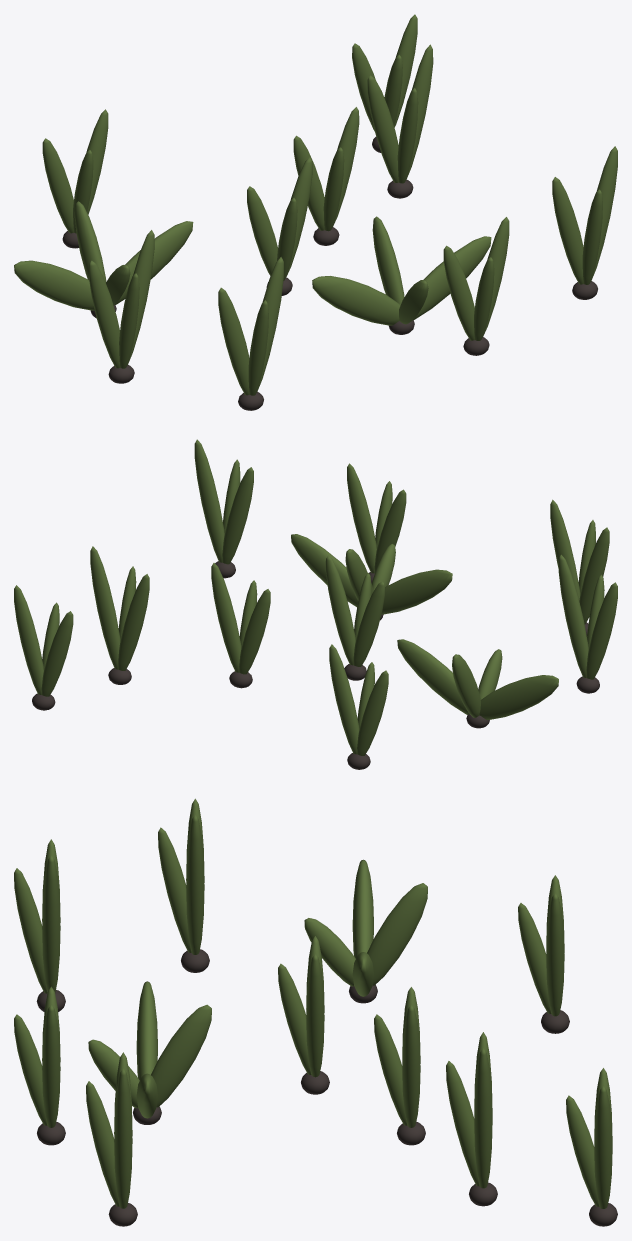
File: CMU3DRMCGrassa4.glb
The picture shows the model from 3 angles, top to bottom: view 1: azimuth 30°, elevation 25°; view 2: azimuth 150°, elevation 25°; view 3: azimuth 270°, elevation 25°; orthographic projection. The views are drawn at different scales.
Visible parts, largest first — view 1: tuft 8 continuous leaf 0, tuft 2 continuous leaf 0, tuft 8 continuous leaf 1, tuft 1 continuous leaf 0, tuft 5 continuous leaf 0, tuft 10 continuous leaf 0, tuft 4 continuous leaf 0, tuft 9 continuous leaf 0, tuft 0 continuous leaf 0, tuft 8 continuous leaf 2, tuft 2 continuous leaf 1, tuft 3 continuous leaf 0 (+23 smaller); view 2: tuft 2 continuous leaf 0, tuft 8 continuous leaf 0, tuft 2 continuous leaf 1, tuft 1 continuous leaf 1, tuft 5 continuous leaf 1, tuft 4 continuous leaf 1, tuft 7 continuous leaf 1, tuft 3 continuous leaf 1, tuft 0 continuous leaf 1, tuft 6 continuous leaf 1, tuft 9 continuous leaf 1, tuft 1 continuous leaf 0 (+23 smaller); view 3: tuft 8 continuous leaf 2, tuft 2 continuous leaf 2, tuft 5 continuous leaf 1, tuft 1 continuous leaf 1, tuft 4 continuous leaf 1, tuft 10 continuous leaf 1, tuft 0 continuous leaf 1, tuft 6 continuous leaf 1, tuft 3 continuous leaf 1, tuft 9 continuous leaf 1, tuft 7 continuous leaf 1, tuft 1 continuous leaf 2 (+14 smaller).
Part boxes in pixels (bbox=[...]): tuft 8 continuous leaf 0: bbox=[312, 276, 400, 325]; tuft 2 continuous leaf 0: bbox=[14, 260, 94, 310]; tuft 8 continuous leaf 1: bbox=[413, 236, 491, 320]; tuft 1 continuous leaf 0: bbox=[367, 75, 398, 182]; tuft 5 continuous leaf 0: bbox=[552, 177, 583, 284]; tuft 10 continuous leaf 0: bbox=[218, 287, 249, 395]; tuft 4 continuous leaf 0: bbox=[89, 260, 120, 368]; tuft 9 continuous leaf 0: bbox=[443, 245, 474, 340]; tuft 0 continuous leaf 0: bbox=[42, 138, 73, 233]; tuft 8 continuous leaf 2: bbox=[372, 216, 404, 304]; tuft 2 continuous leaf 1: bbox=[115, 221, 193, 304]; tuft 3 continuous leaf 0: bbox=[247, 186, 277, 275]; tuft 2 continuous leaf 0: bbox=[479, 675, 558, 719]; tuft 8 continuous leaf 0: bbox=[381, 569, 452, 614]; tuft 2 continuous leaf 1: bbox=[397, 639, 469, 714]; tuft 1 continuous leaf 1: bbox=[90, 546, 120, 669]; tuft 5 continuous leaf 1: bbox=[194, 439, 224, 562]; tuft 4 continuous leaf 1: bbox=[558, 554, 588, 677]; tuft 7 continuous leaf 1: bbox=[211, 563, 241, 672]; tuft 3 continuous leaf 1: bbox=[325, 555, 355, 665]; tuft 0 continuous leaf 1: bbox=[329, 644, 359, 754]; tuft 6 continuous leaf 1: bbox=[14, 585, 43, 694]; tuft 9 continuous leaf 1: bbox=[347, 463, 376, 573]; tuft 1 continuous leaf 0: bbox=[118, 574, 149, 670]; tuft 8 continuous leaf 2: bbox=[151, 1004, 211, 1107]; tuft 2 continuous leaf 2: bbox=[367, 883, 427, 985]; tuft 5 continuous leaf 1: bbox=[114, 1068, 132, 1208]; tuft 1 continuous leaf 1: bbox=[474, 1048, 492, 1188]; tuft 4 continuous leaf 1: bbox=[186, 814, 204, 954]; tuft 10 continuous leaf 1: bbox=[42, 855, 60, 993]; tuft 0 continuous leaf 1: bbox=[546, 893, 564, 1016]; tuft 6 continuous leaf 1: bbox=[594, 1086, 612, 1208]; tuft 3 continuous leaf 1: bbox=[306, 954, 324, 1077]; tuft 9 continuous leaf 1: bbox=[42, 1005, 60, 1127]; tuft 7 continuous leaf 1: bbox=[402, 1005, 420, 1127]; tuft 1 continuous leaf 2: bbox=[446, 1061, 479, 1186].
Size of the model in its own units: 0.9077 by 0.2506 by 0.7864.
